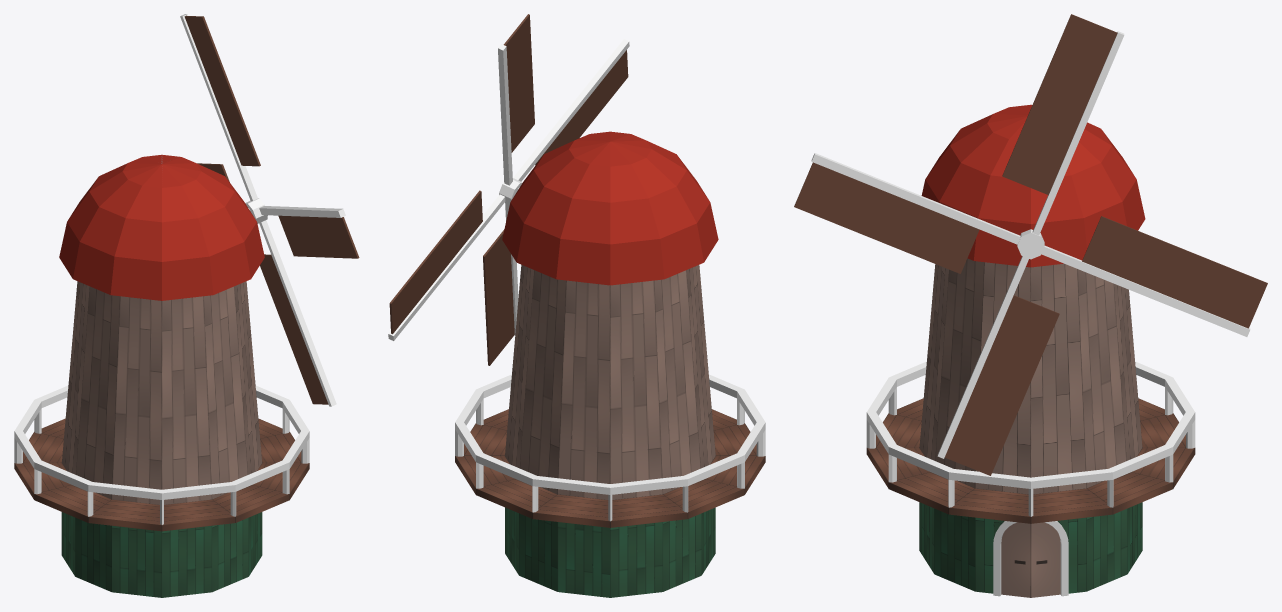
File: Molen.fbx
The picture shows the model from 3 angles, left to right: view 1: azimuth 30°, elevation 25°; view 2: azimuth 150°, elevation 25°; view 3: azimuth 270°, elevation 25°; orthographic projection. The views are drawn at different scales.
Visible parts, largest first — view 1: Molen; view 2: Molen; view 3: Molen.
Boxes of the visible parts, bbox=[...] form: Molen: bbox=[14, 14, 359, 597]; Molen: bbox=[388, 14, 765, 597]; Molen: bbox=[794, 14, 1267, 597].
Bounding box in the file's own units: 982 × 1830 × 1381.
